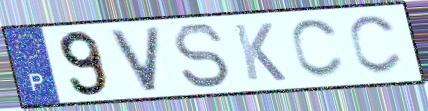9: (56, 28, 112, 98)
C: (346, 12, 405, 77), (288, 16, 347, 81)
K: (231, 21, 290, 83)
S: (169, 21, 234, 90)
V: (107, 24, 162, 94)
